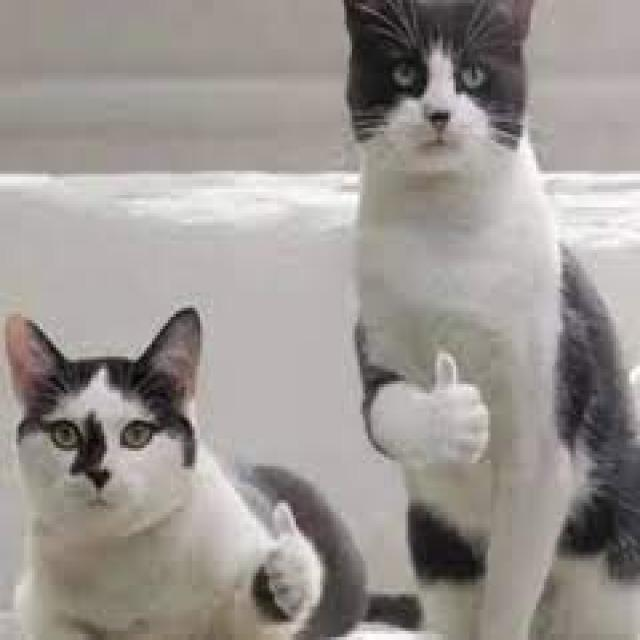Cat: (333, 0, 640, 640), (0, 301, 368, 640)
